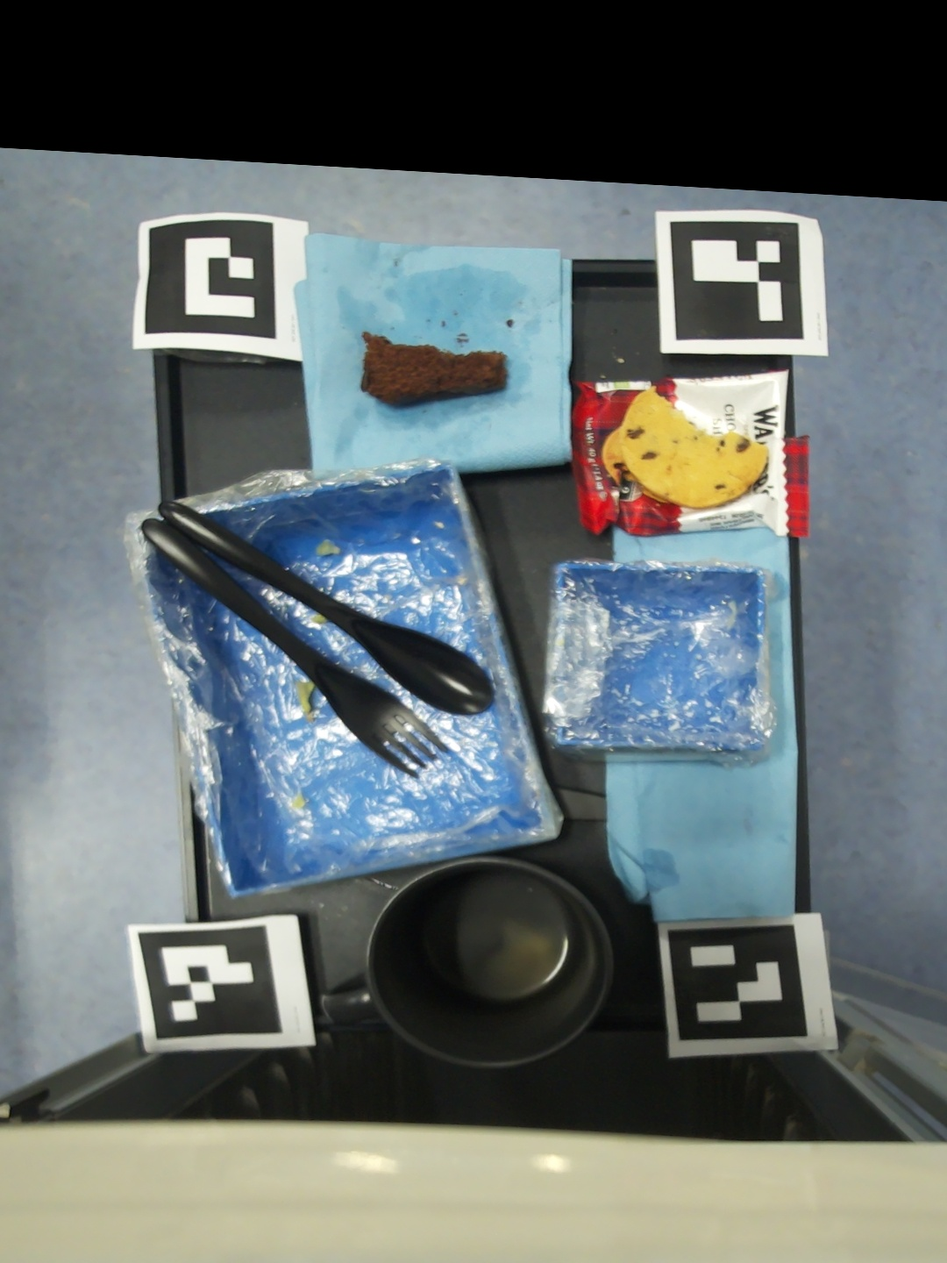brownie: (361, 330, 507, 409), (506, 319, 514, 327)
coffee_cup: (321, 857, 613, 1070)
cookie: (571, 368, 809, 536)
wrap_half_1: (297, 679, 315, 722), (318, 538, 341, 553), (291, 794, 304, 810), (312, 614, 329, 624)
